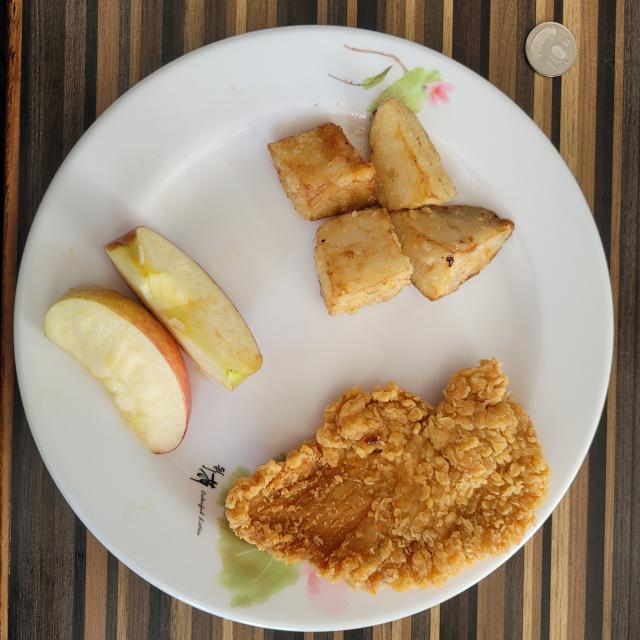apple -sliced-: (44, 226, 262, 452)
coin: (525, 21, 578, 78)
fried chicken cutlet: (226, 358, 550, 594)
fried potato: (269, 98, 514, 315)
